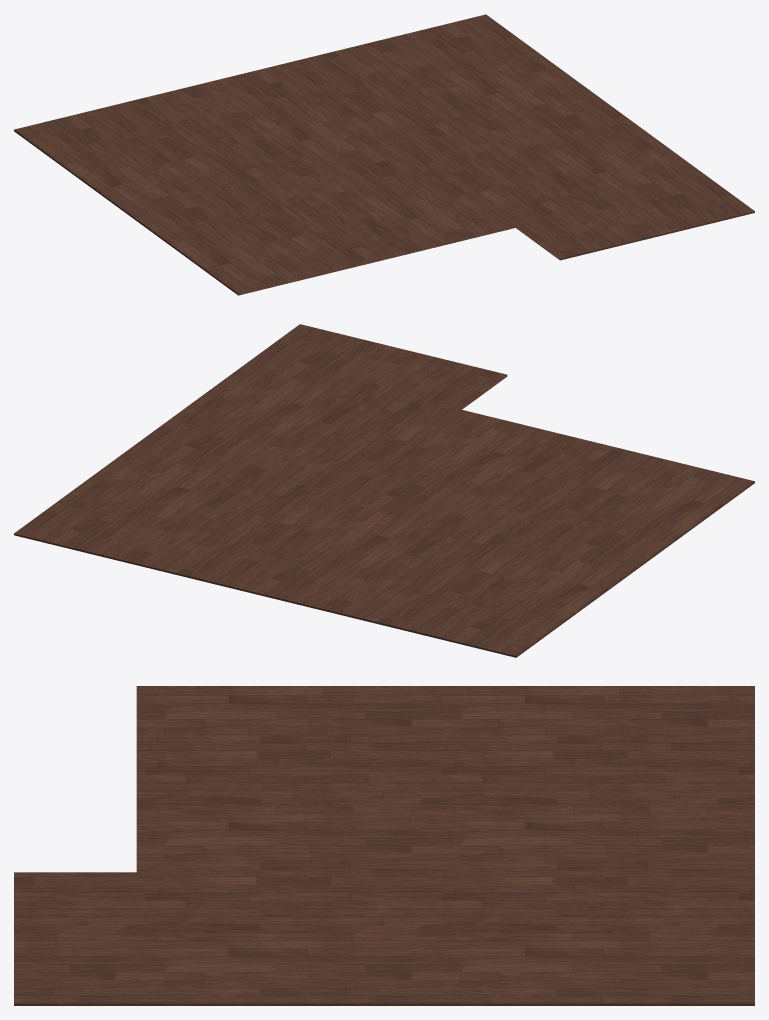
Rendered from BedroomFloor.fbx.
3 renders of one model, top to bottom at view 1: azimuth 30°, elevation 25°; view 2: azimuth 150°, elevation 25°; view 3: azimuth 270°, elevation 25°, orthographic. The views are drawn at different scales.
Visible parts, largest first — view 1: pCube12; view 2: pCube12; view 3: pCube12.
Boxes of the visible parts, box(x1,y1,x2,y2) form: pCube12: box(14, 14, 754, 295); pCube12: box(14, 324, 754, 657); pCube12: box(14, 686, 754, 1005).
Bounding box in the file's own units: 8.66 × 0.0305 × 8.54.
1 material, 1 textured.
